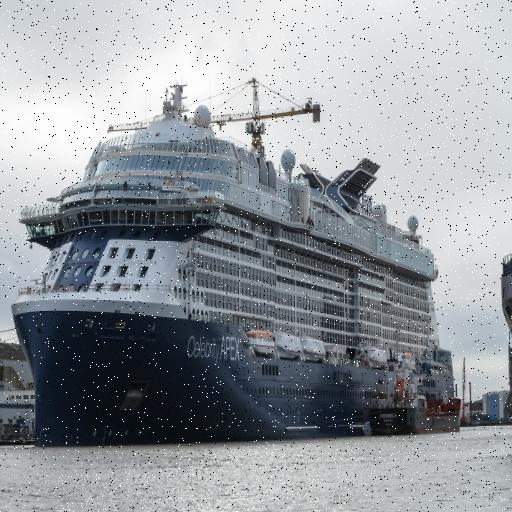cruises: (8, 79, 462, 455)
